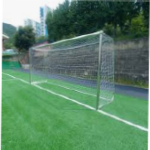goals: (28, 29, 117, 113)
